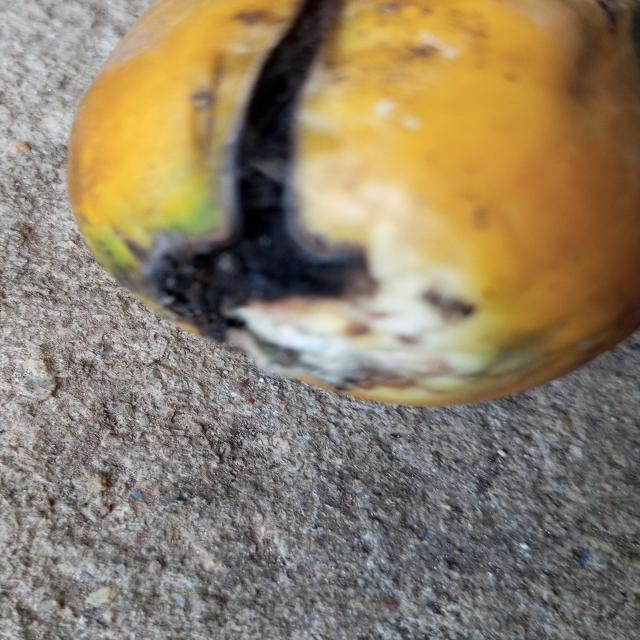damaged: (67, 0, 640, 410)
